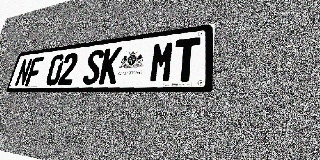0: (45, 54, 65, 86)
2: (58, 52, 79, 85)
F: (24, 57, 44, 86)
K: (98, 47, 122, 84)
M: (148, 40, 175, 83)
N: (14, 58, 33, 87)
S: (82, 49, 105, 85)
T: (172, 37, 200, 82)
